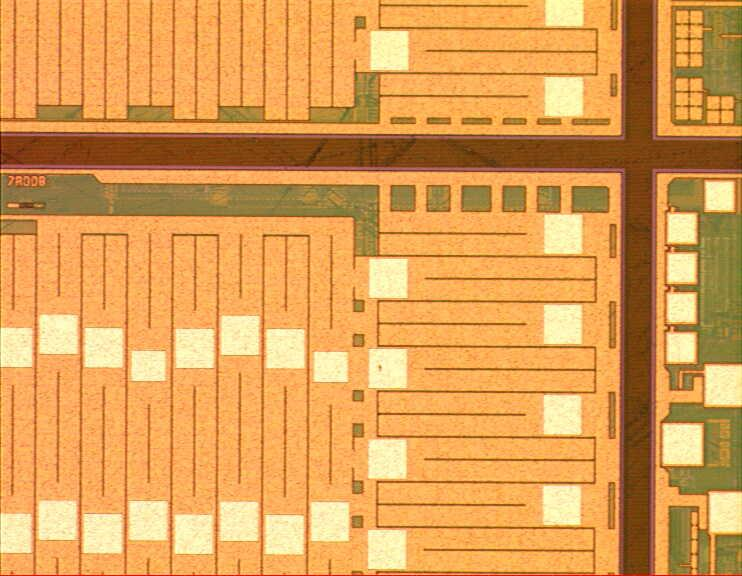SCRATCH: (1, 55, 742, 502)
